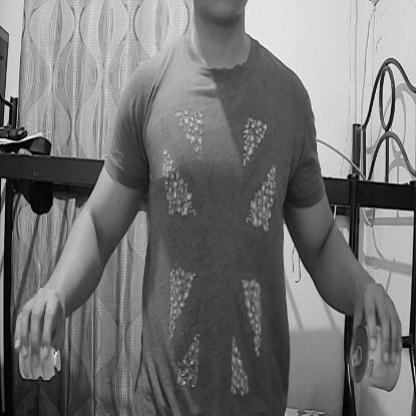Can: (348, 320, 402, 390)
Others: (16, 340, 66, 382)
